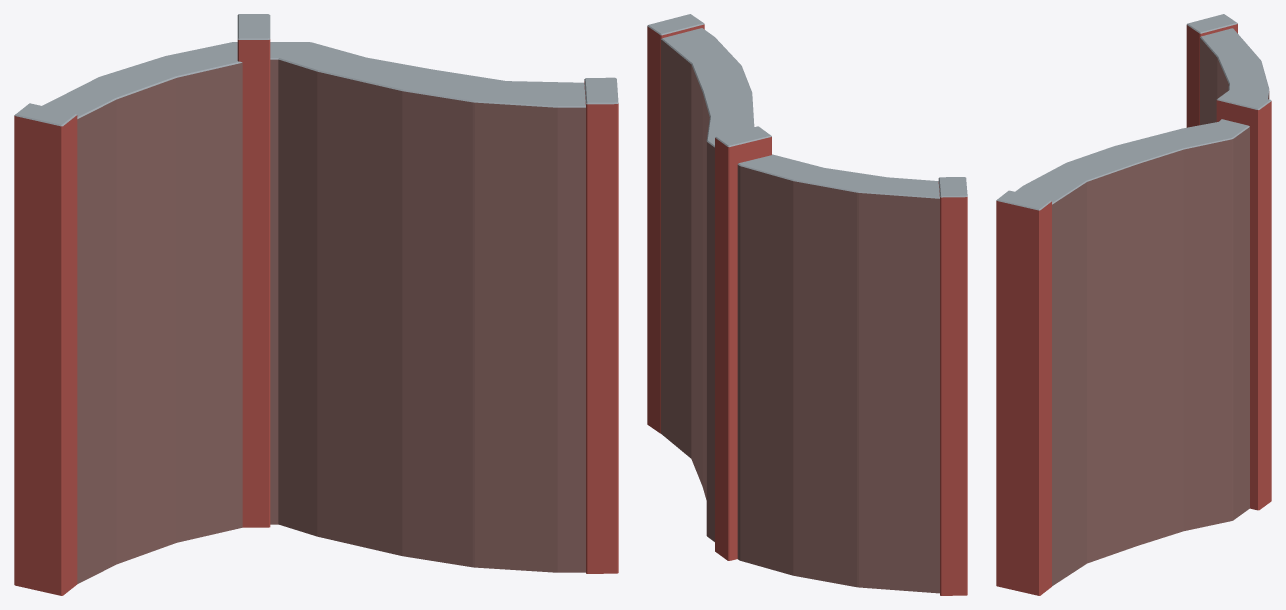
The model's file is lv-resorts-world.glb.
3 views of the same model, side by side, from view 1: azimuth 30°, elevation 25°; view 2: azimuth 150°, elevation 25°; view 3: azimuth 270°, elevation 25° (orthographic). The views are drawn at different scales.
Visible parts, largest first — view 1: Resorts World Las Vegas; view 2: Resorts World Las Vegas; view 3: Resorts World Las Vegas.
Boxes of the visible parts, x1,y1,x2,y2 form: Resorts World Las Vegas: (14,14,618,595); Resorts World Las Vegas: (647,14,967,595); Resorts World Las Vegas: (996,14,1271,595).
Size of the model in its own units: 226 by 215 by 134.
